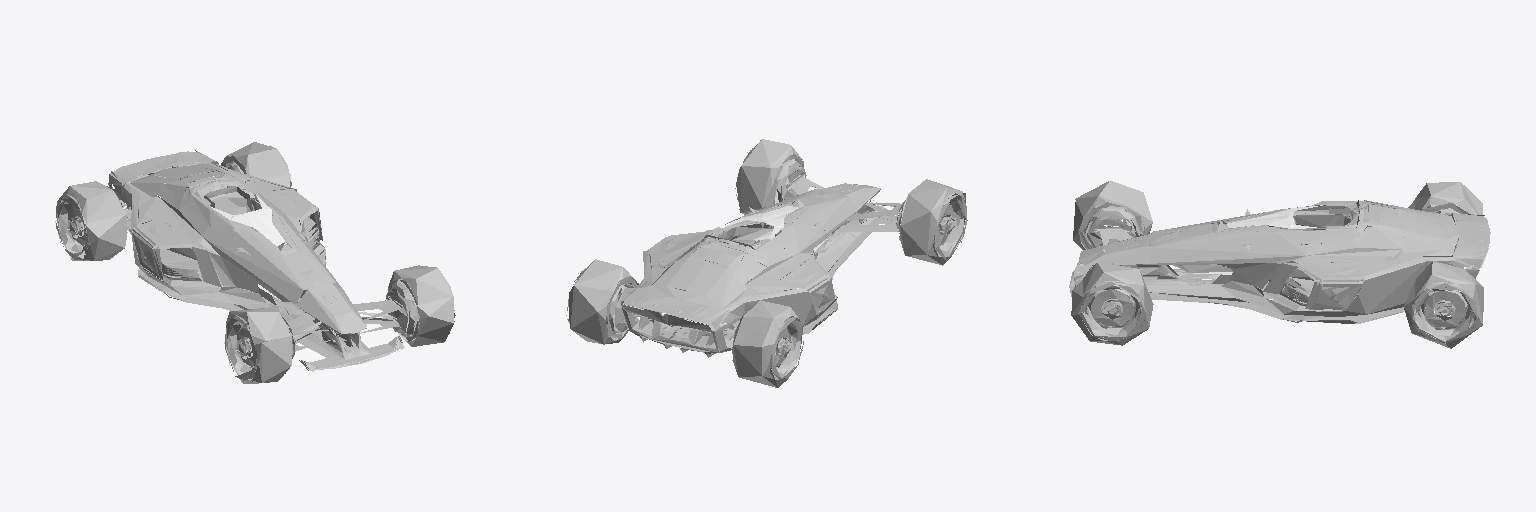
Rendered from TMCar.obj.
The picture shows the model from 3 angles: view 1: azimuth 30°, elevation 25°; view 2: azimuth 150°, elevation 25°; view 3: azimuth 270°, elevation 25°; orthographic projection.
Visible parts, largest first — view 1: TMCar; view 2: TMCar; view 3: TMCar.
Part boxes in pixels (bbox=[...]): TMCar: bbox=[55, 142, 455, 383]; TMCar: bbox=[566, 139, 967, 387]; TMCar: bbox=[1069, 180, 1490, 348].
Bounding box in the file's own units: 2.31 × 0.99 × 4.1.